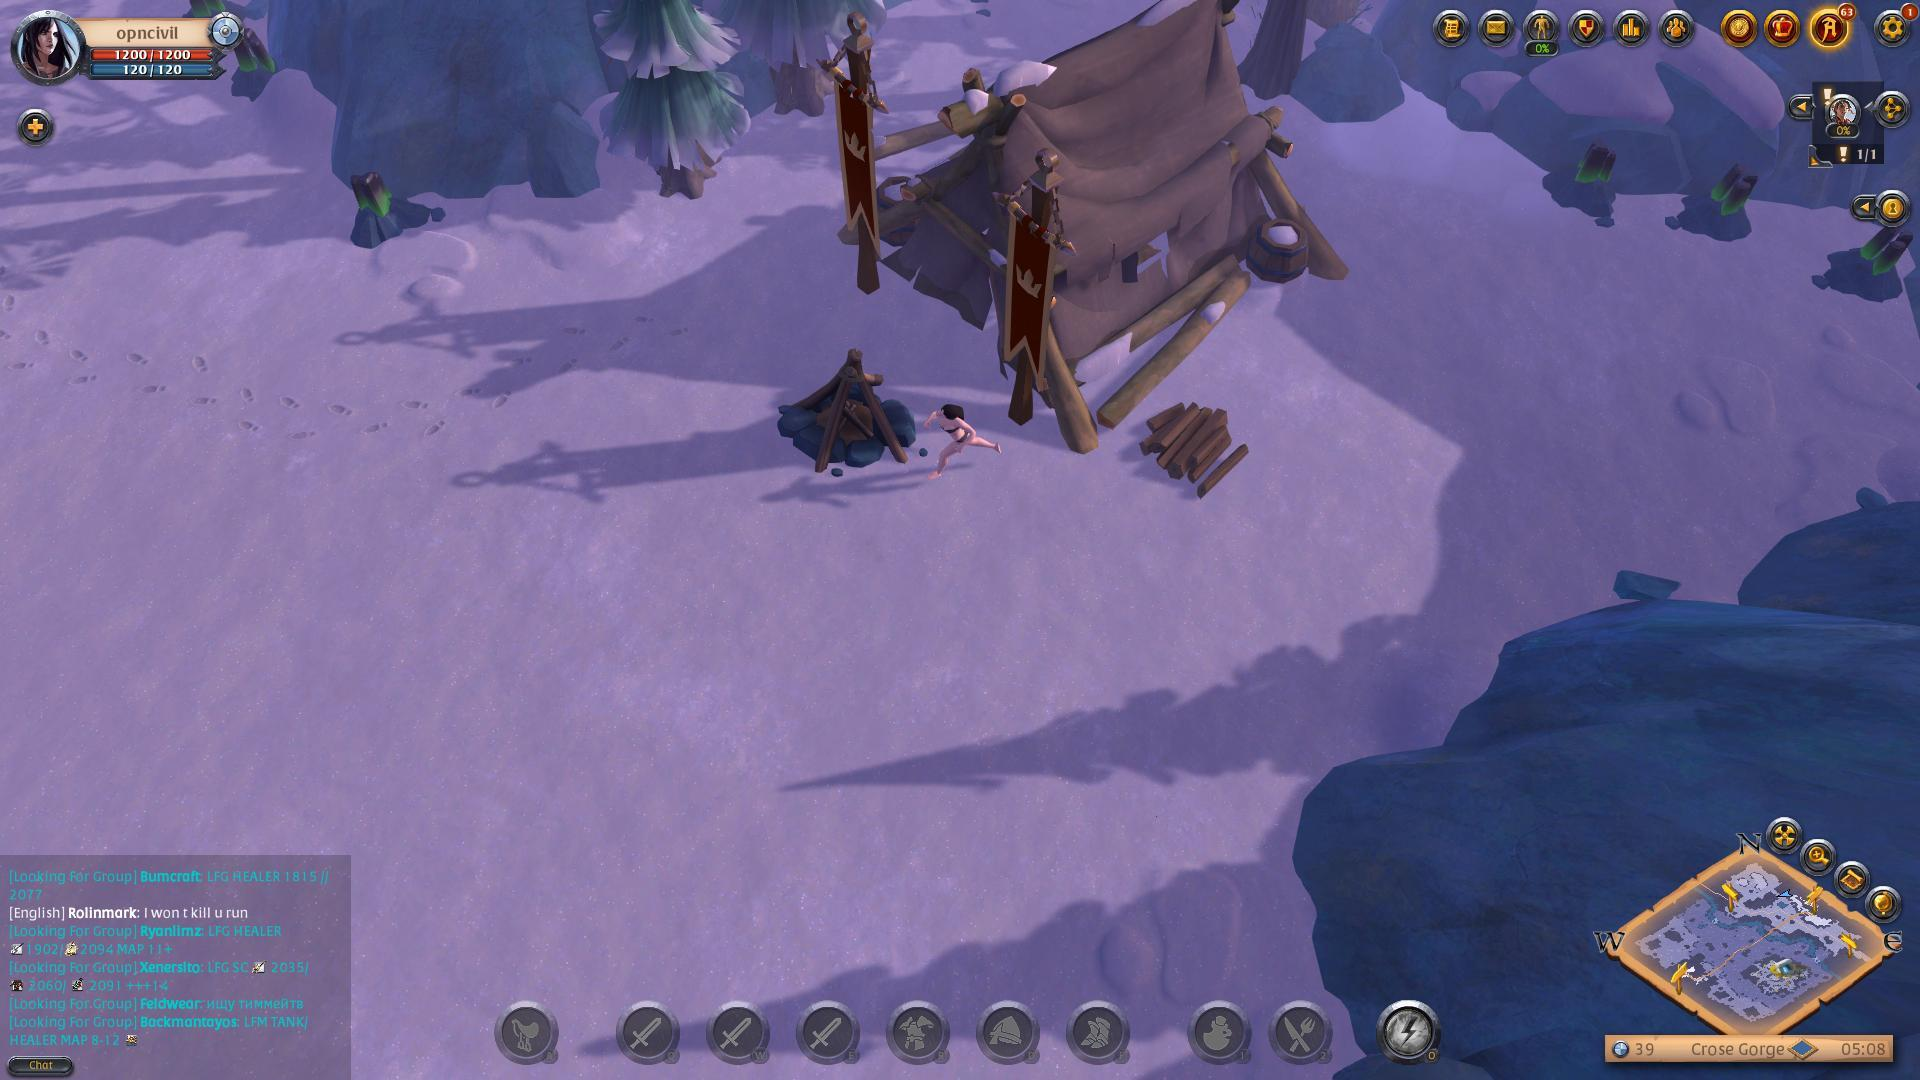tin_ore: (1663, 153, 1766, 251), (1536, 136, 1630, 240), (340, 157, 442, 252), (1813, 223, 1917, 306), (224, 29, 285, 104)
